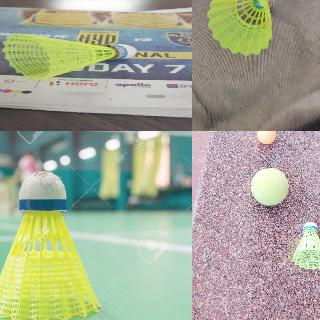shuttlecock: (0, 171, 102, 319), (2, 33, 135, 79), (207, 0, 274, 56), (292, 221, 319, 270)
